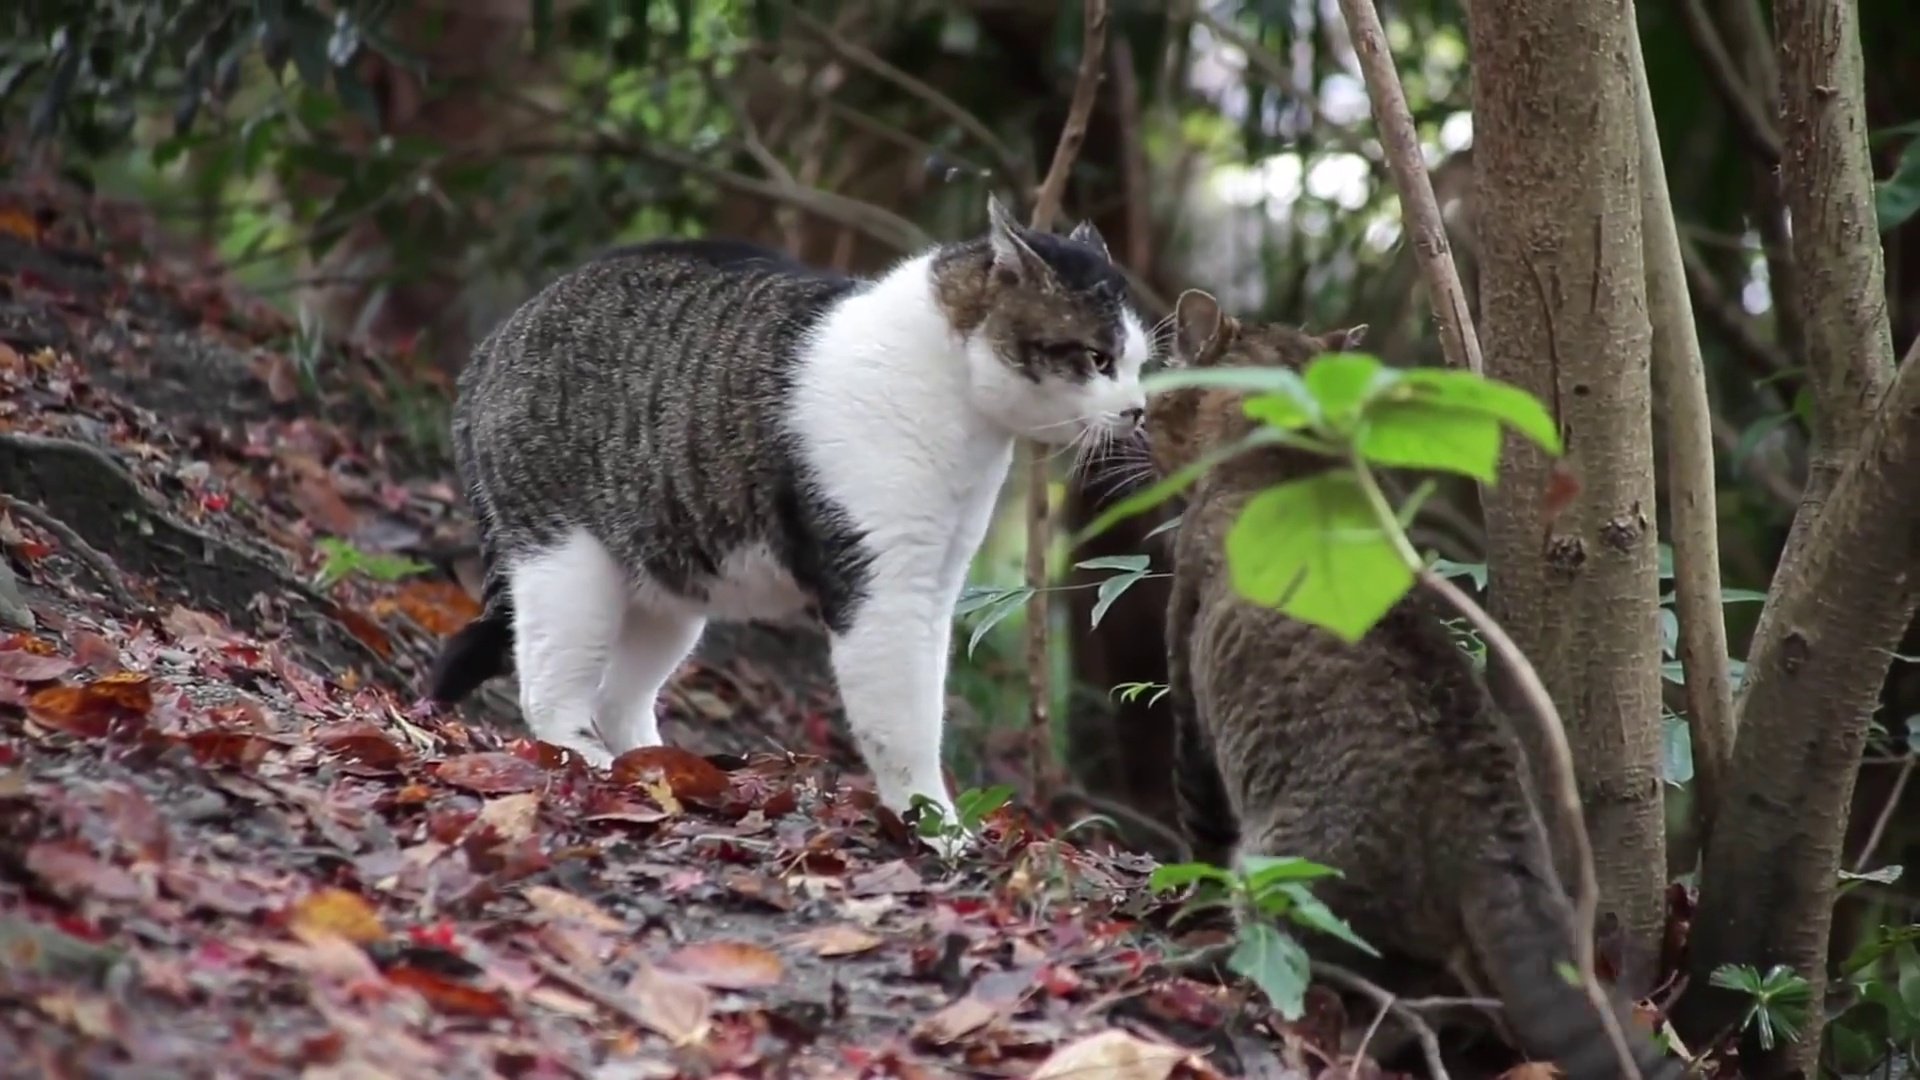black-white: (414, 194, 1145, 858)
pure black: (1142, 287, 1596, 1030)
